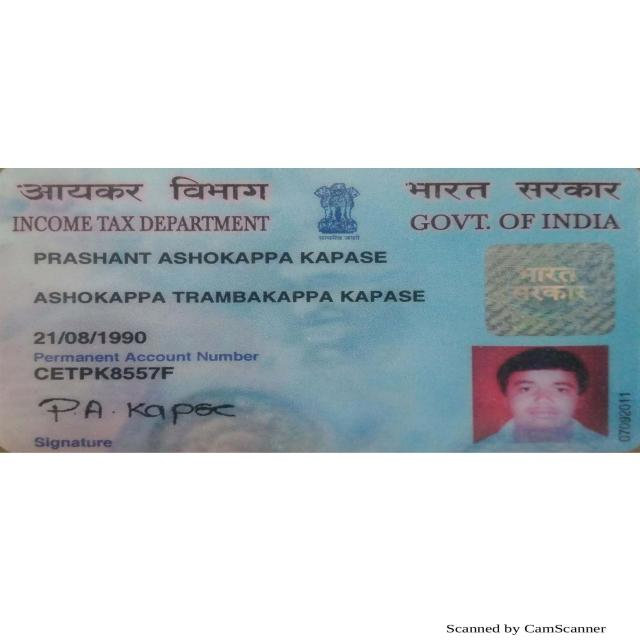pan_card: (0, 169, 639, 452)
